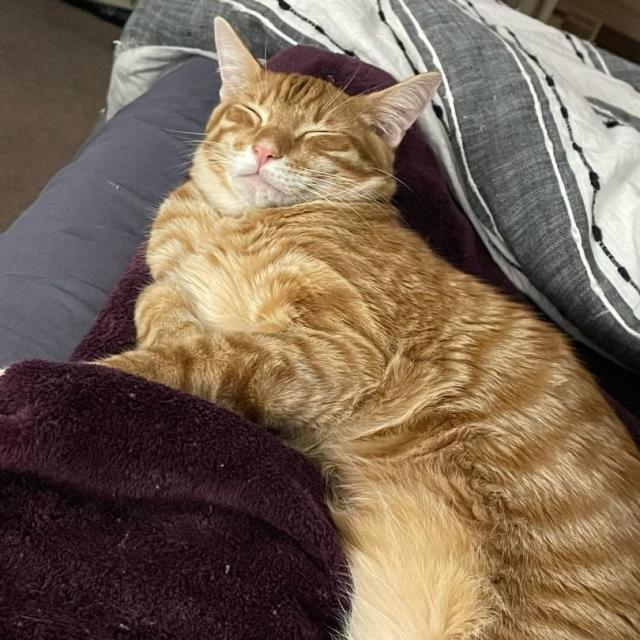american_shorthair_cat: (186, 12, 448, 222)
